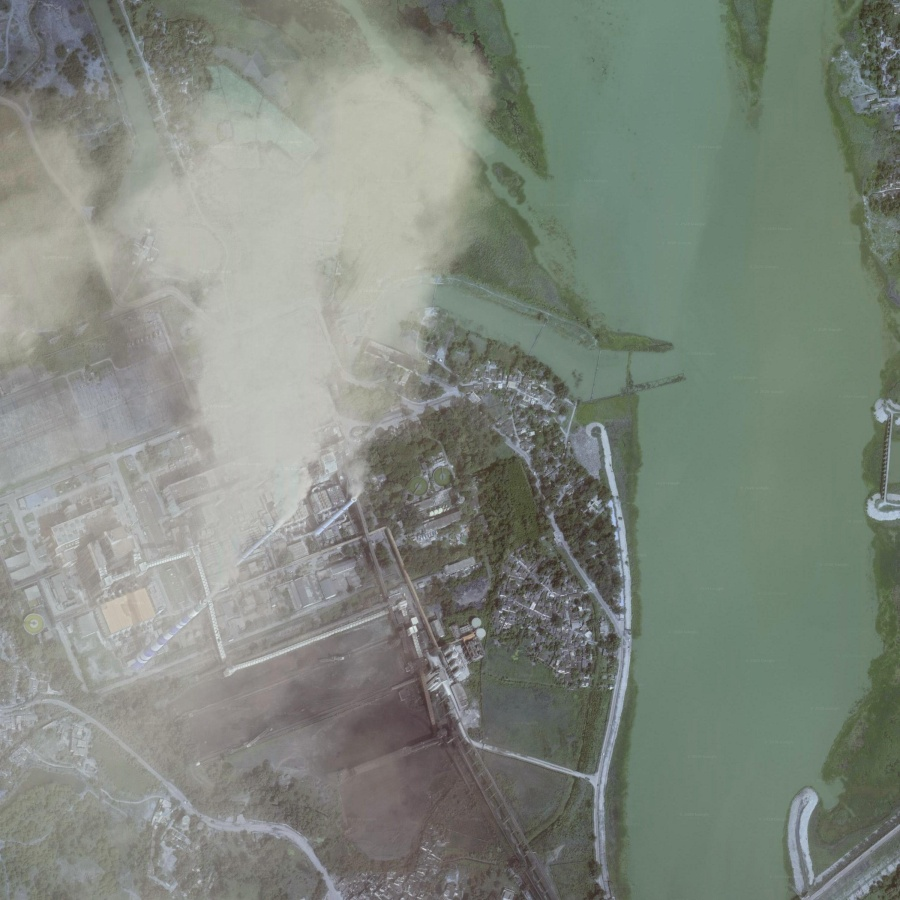PowerPlant: (94, 419, 384, 700)
